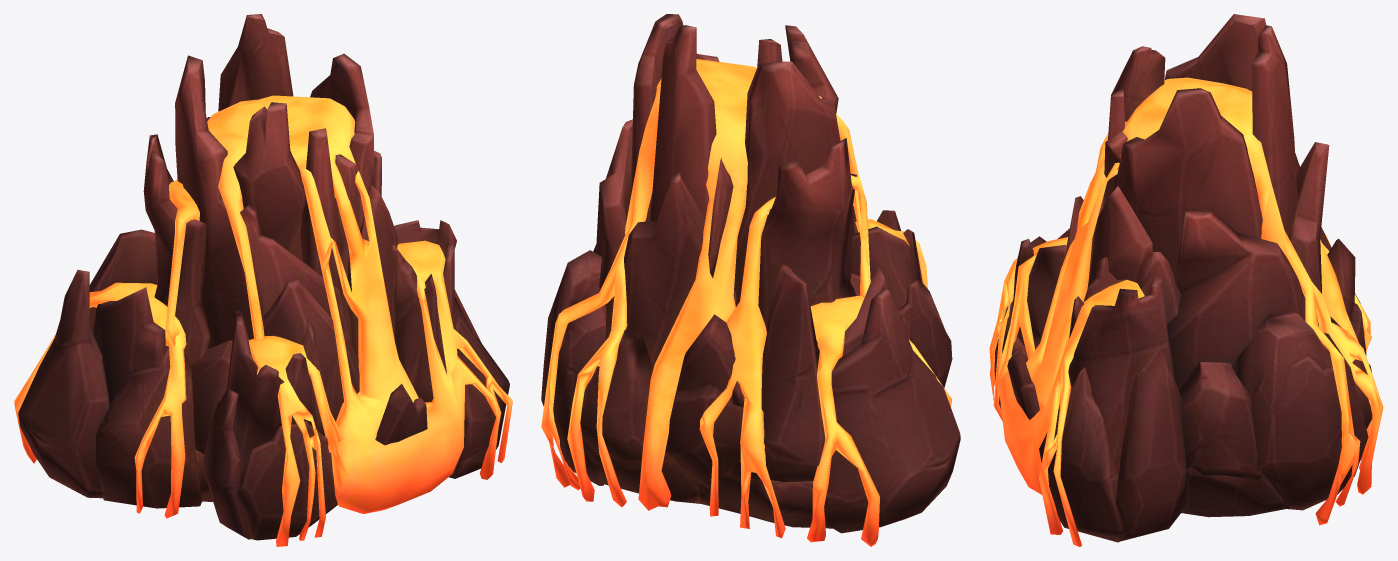
The model's file is molten_mountdoom_far.glb.
The picture shows the model from 3 angles, left to right: view 1: azimuth 30°, elevation 25°; view 2: azimuth 150°, elevation 25°; view 3: azimuth 270°, elevation 25°; orthographic projection. The views are drawn at different scales.
Parts seen in each view (by area): view 1: SM_MLTN_HRO_MountDoom_01; view 2: SM_MLTN_HRO_MountDoom_01; view 3: SM_MLTN_HRO_MountDoom_01.
Part boxes in pixels (x1,y1,x2,y2): SM_MLTN_HRO_MountDoom_01: (14, 14, 512, 546); SM_MLTN_HRO_MountDoom_01: (541, 14, 960, 546); SM_MLTN_HRO_MountDoom_01: (989, 14, 1383, 546).
Bounding box in the file's own units: 32.55 × 33.31 × 26.37.
1 material, 1 textured.
